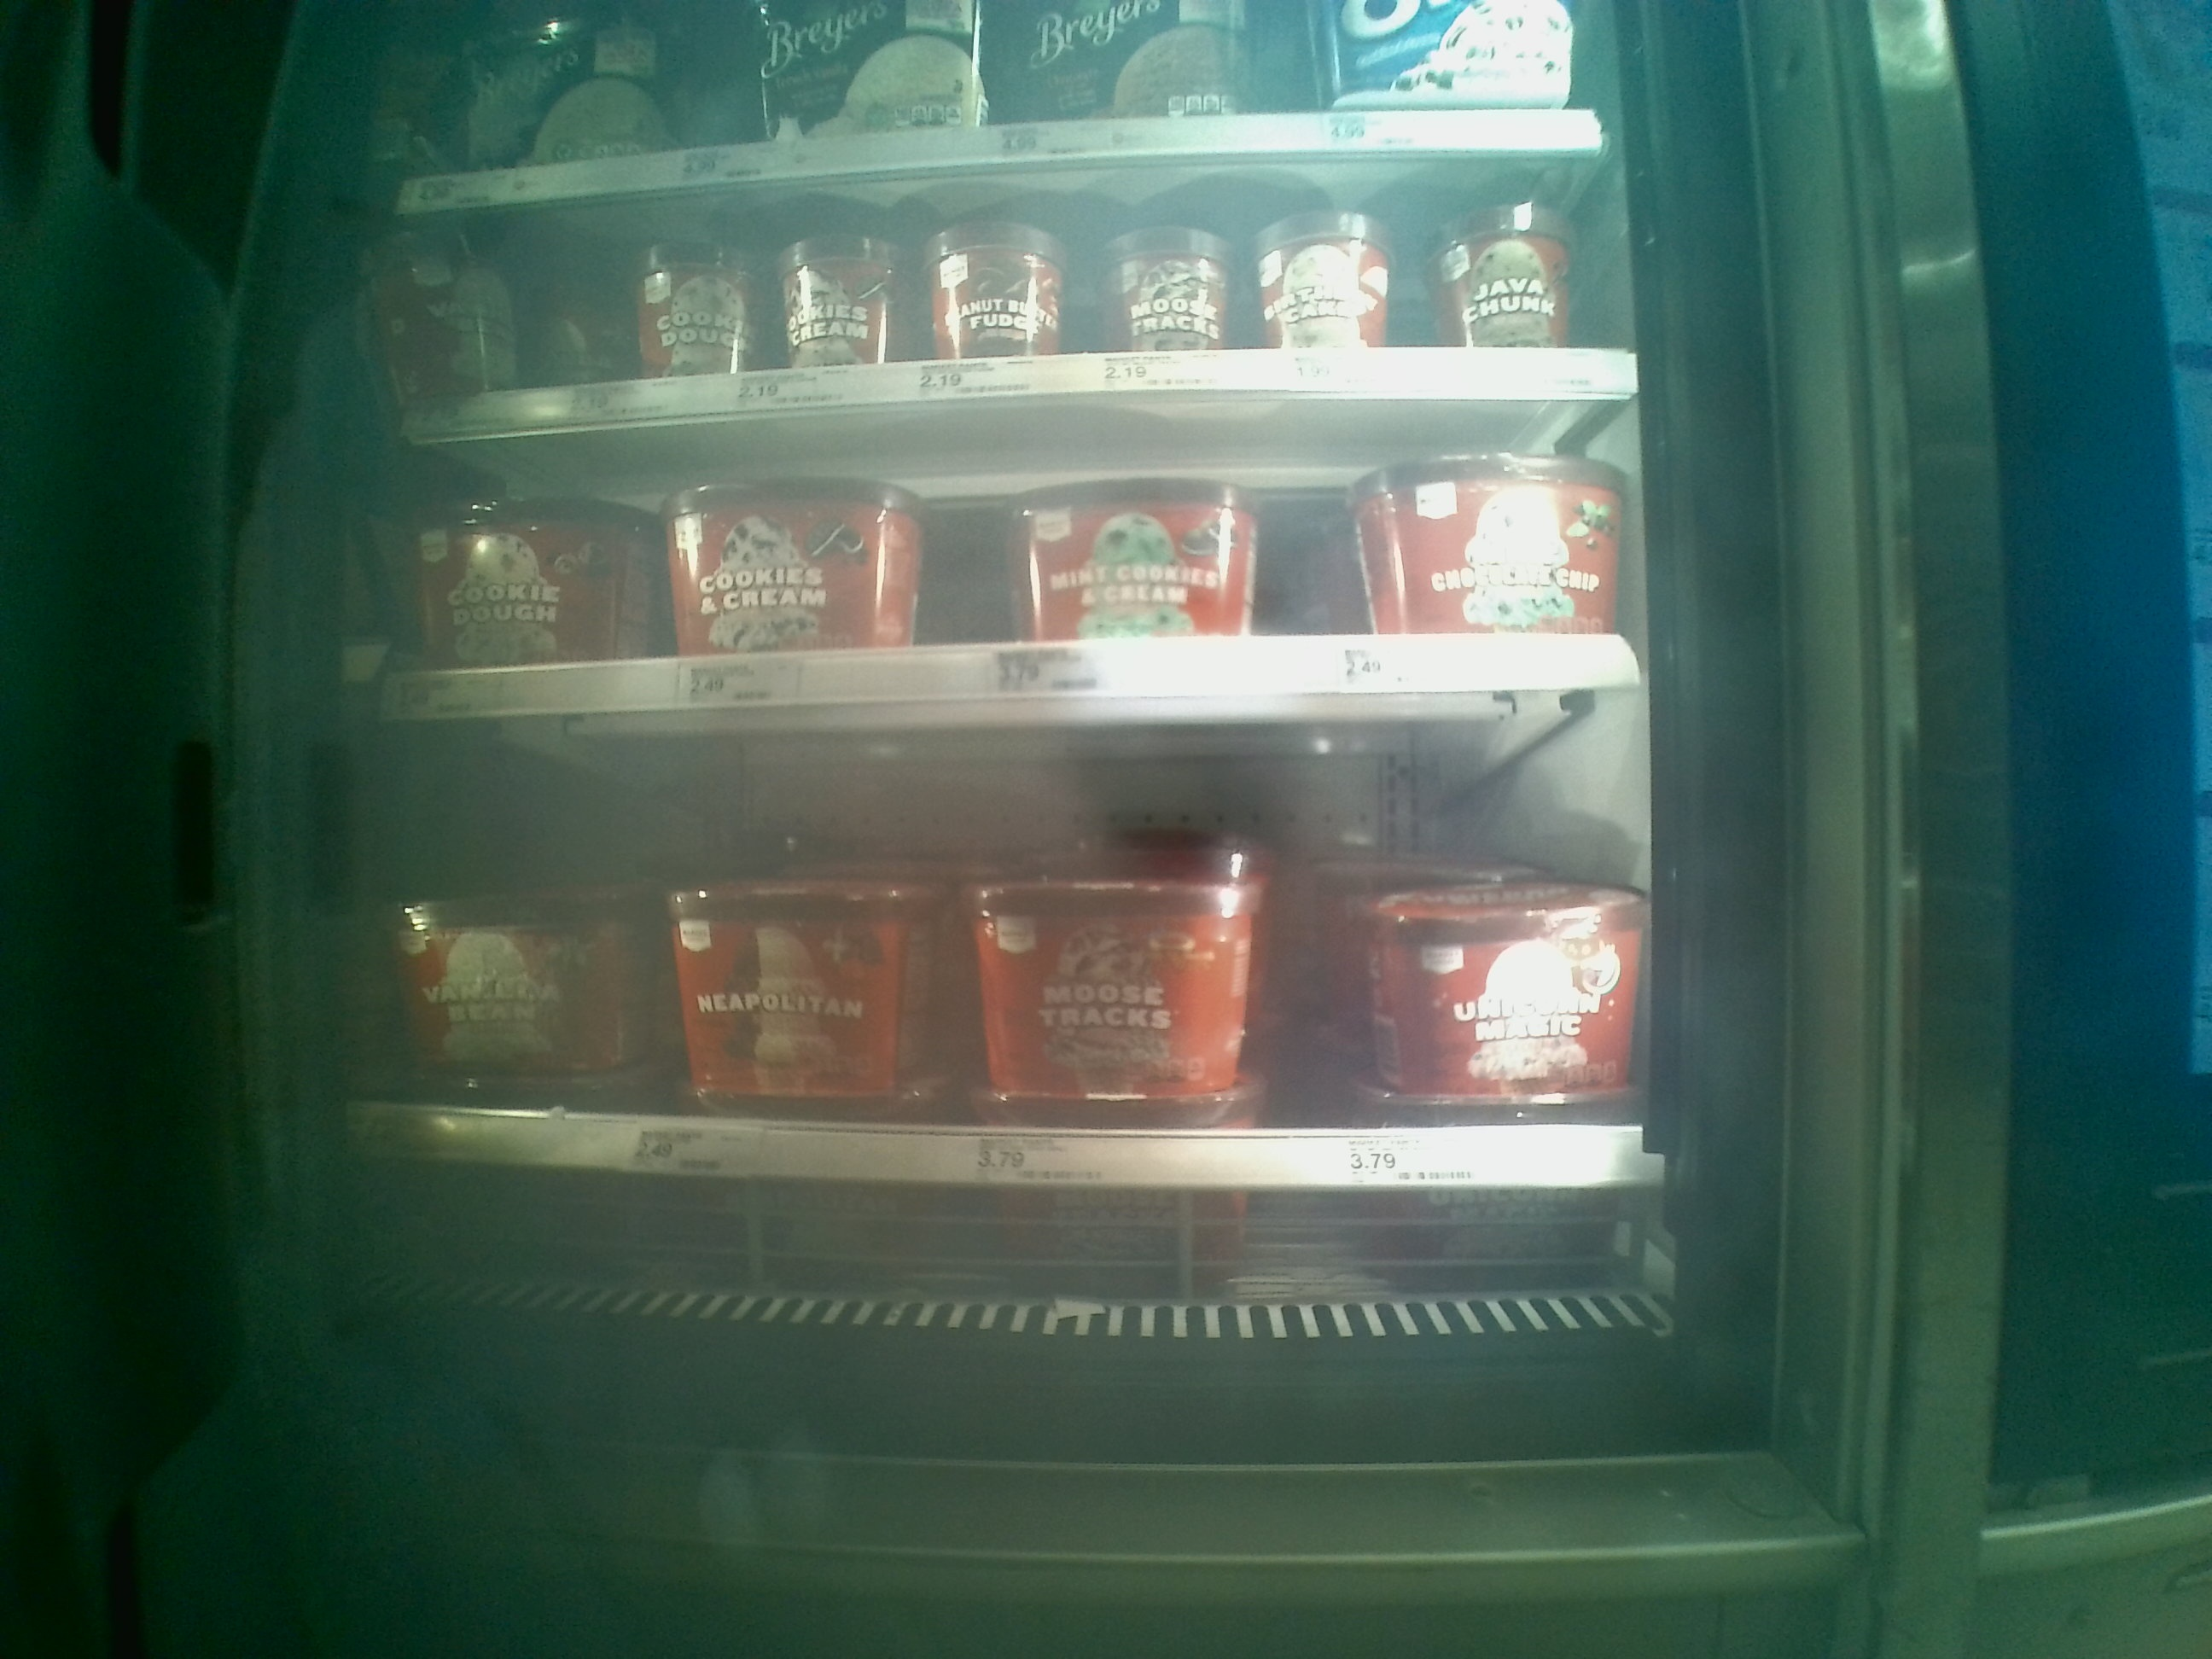ice-cream-shelf: (364, 694, 1655, 1220), (371, 408, 1639, 699), (374, 166, 1623, 410)
